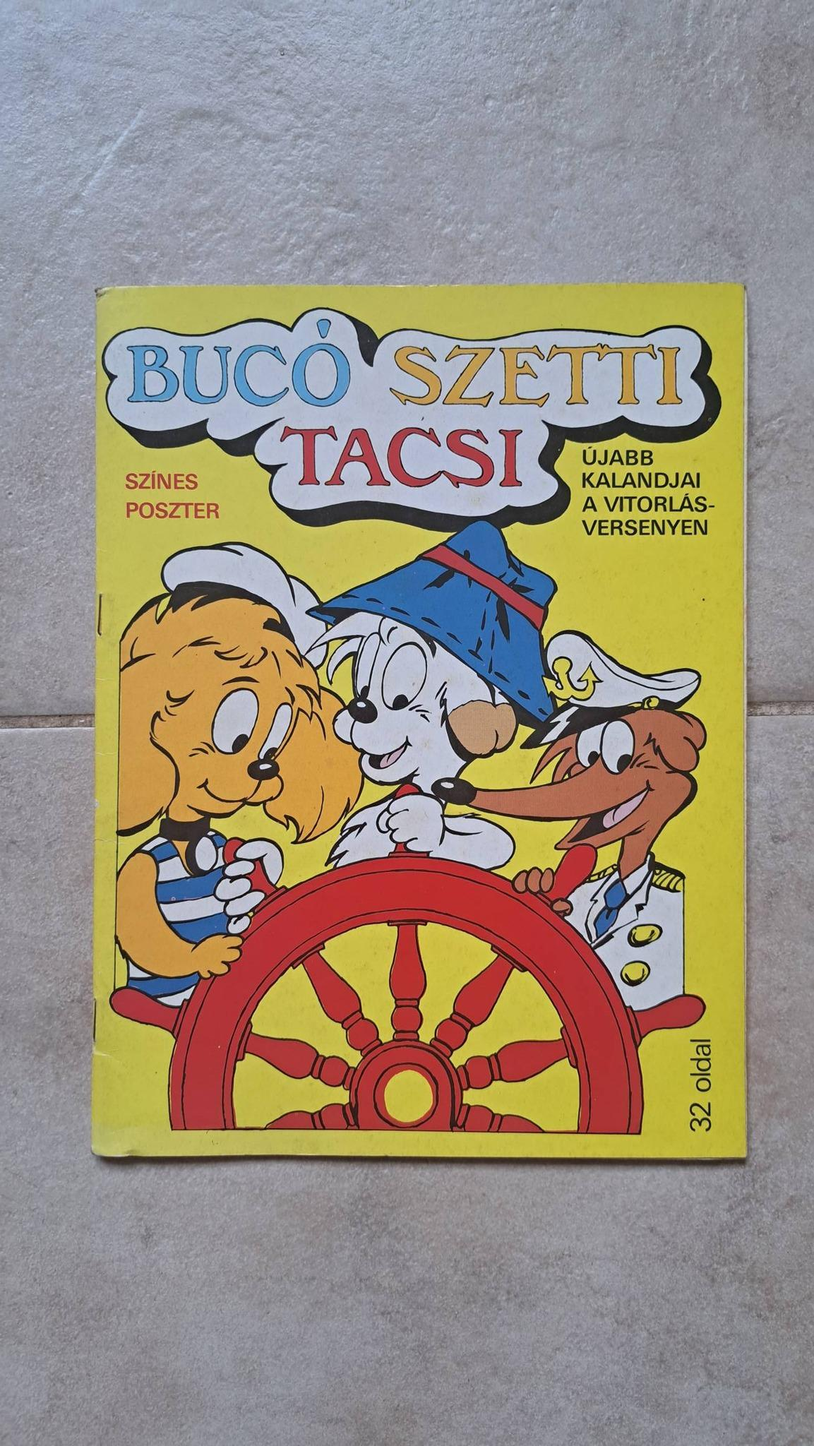comic: (93, 285, 744, 1158)
